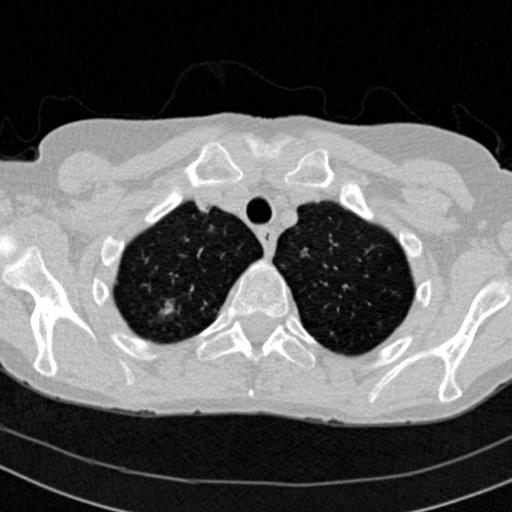nodule: (156, 298, 177, 319)
